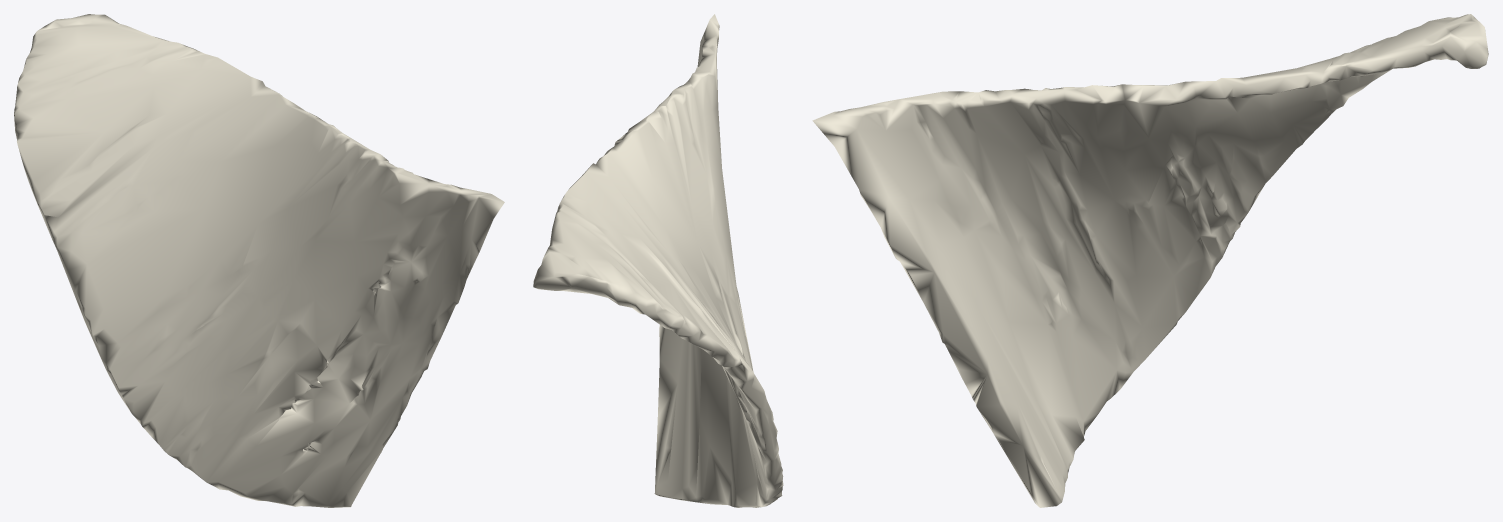
3 views of the same model, side by side, from view 1: azimuth 30°, elevation 25°; view 2: azimuth 150°, elevation 25°; view 3: azimuth 270°, elevation 25° (orthographic). The views are drawn at different scales.
Visible parts, largest first — view 1: ZA_c600cd3356abddea; view 2: ZA_c600cd3356abddea; view 3: ZA_c600cd3356abddea.
Part boxes in pixels (left/top/right/bottom): ZA_c600cd3356abddea: left=14, top=14, right=504, bottom=507; ZA_c600cd3356abddea: left=533, top=14, right=783, bottom=507; ZA_c600cd3356abddea: left=812, top=14, right=1488, bottom=507.
Bounding box in the file's own units: 0.00869 × 0.0128 × 0.0181.
